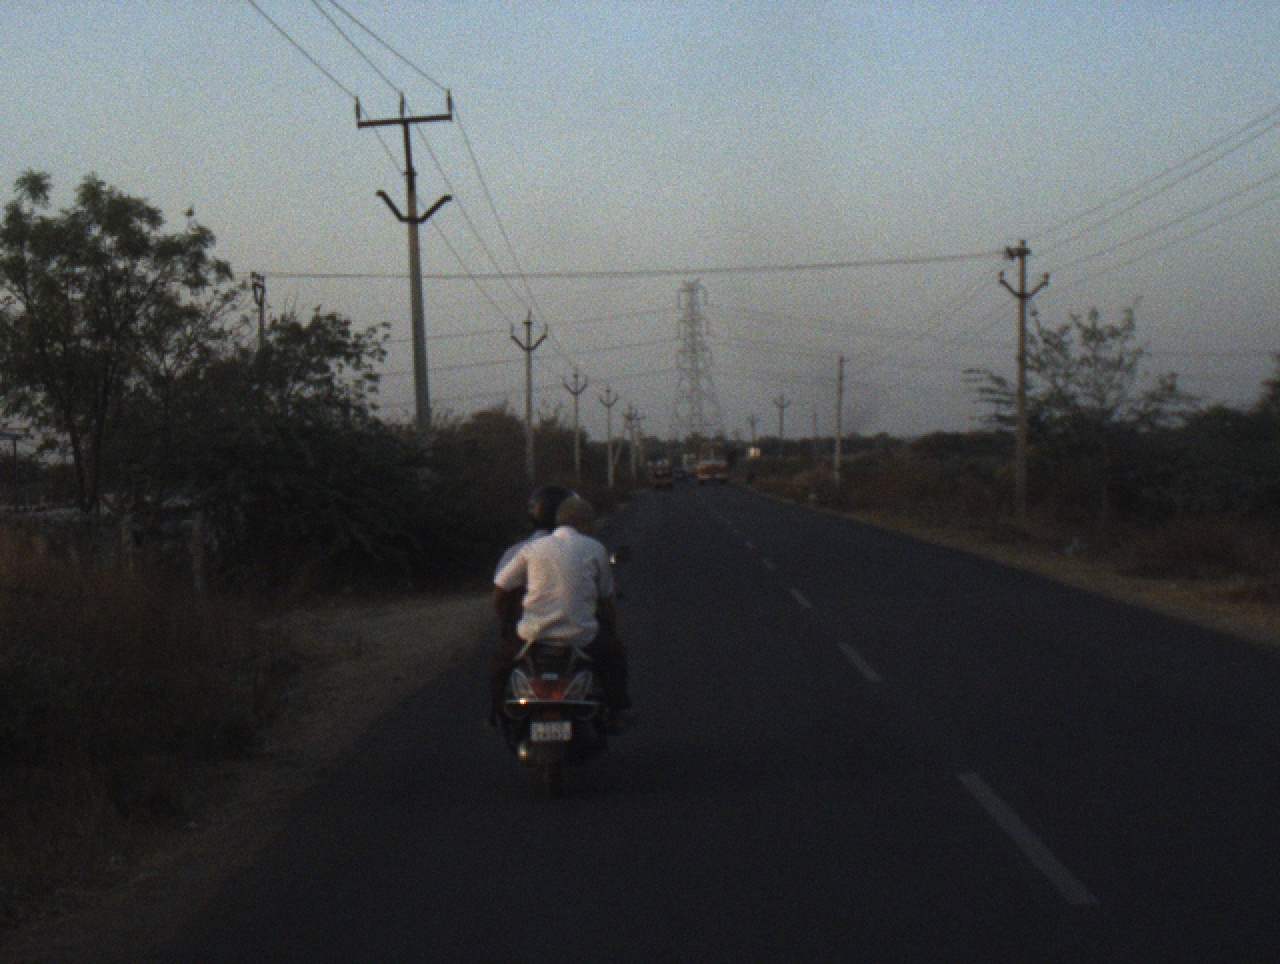autorickshaw: (647, 461, 674, 494)
bus: (683, 451, 698, 480)
car: (672, 468, 688, 481)
motorcycle: (495, 546, 633, 796)
rider: (489, 498, 636, 742), (493, 484, 573, 574)
truck: (693, 438, 732, 486)
